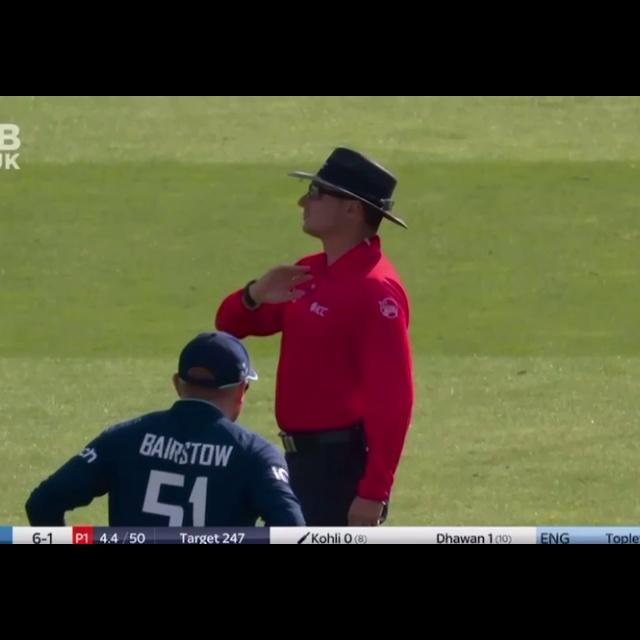umpire: (219, 139, 441, 507)
